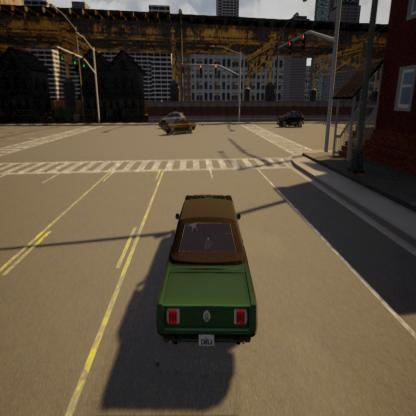Cars: (144, 189, 261, 355), (273, 104, 307, 132), (162, 115, 197, 137), (160, 104, 192, 127)
